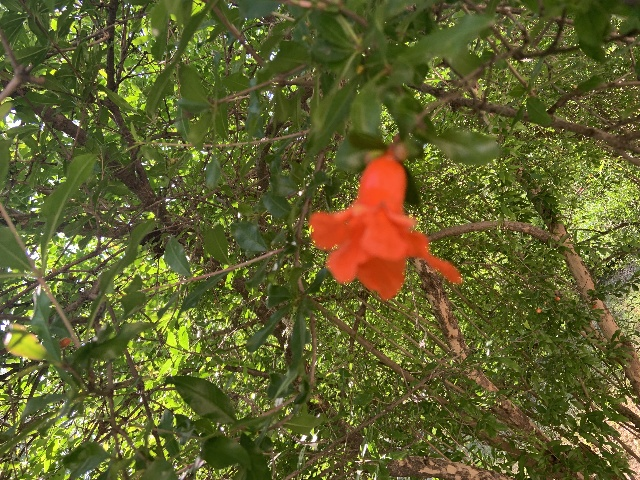bud: (59, 337, 71, 346), (536, 308, 541, 313), (554, 296, 560, 300)
flower: (308, 151, 459, 300)
